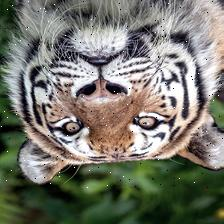tiger: (2, 0, 224, 188)
